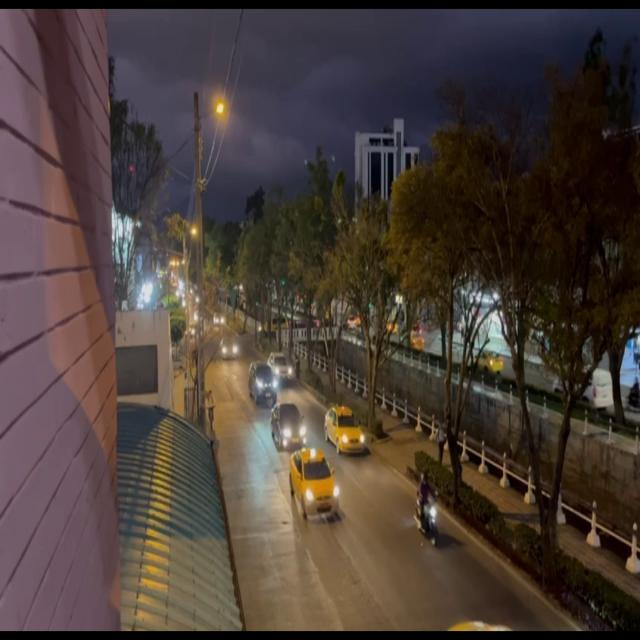MOTORCYCLE: (416, 494, 438, 550)
SED: (289, 447, 337, 520), (324, 403, 366, 455), (270, 401, 308, 452)
SUV: (252, 361, 276, 399)
